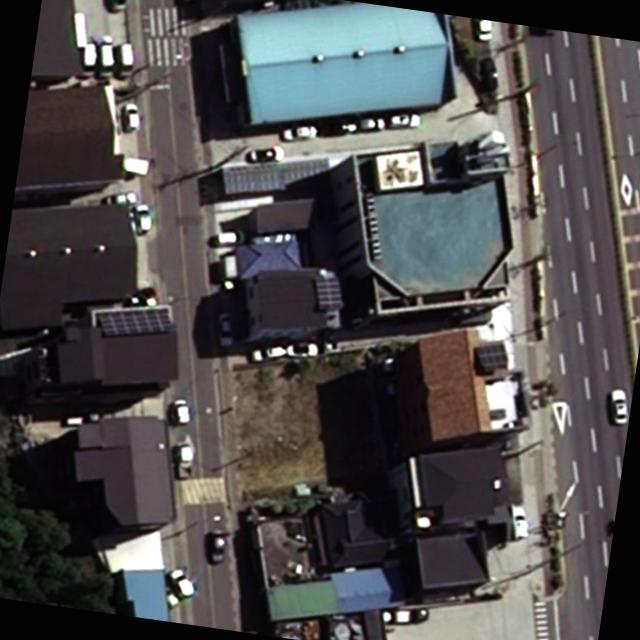solar: (92, 297, 178, 348), (472, 335, 514, 378), (309, 272, 349, 316)
